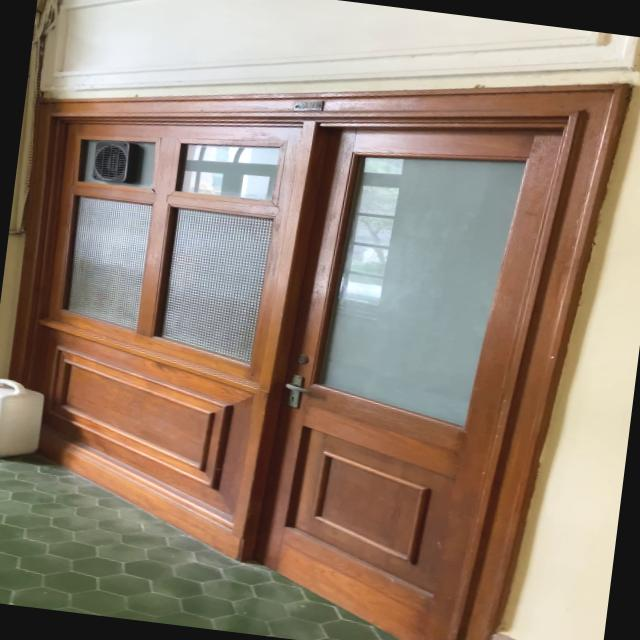room230: (291, 96, 324, 115)
